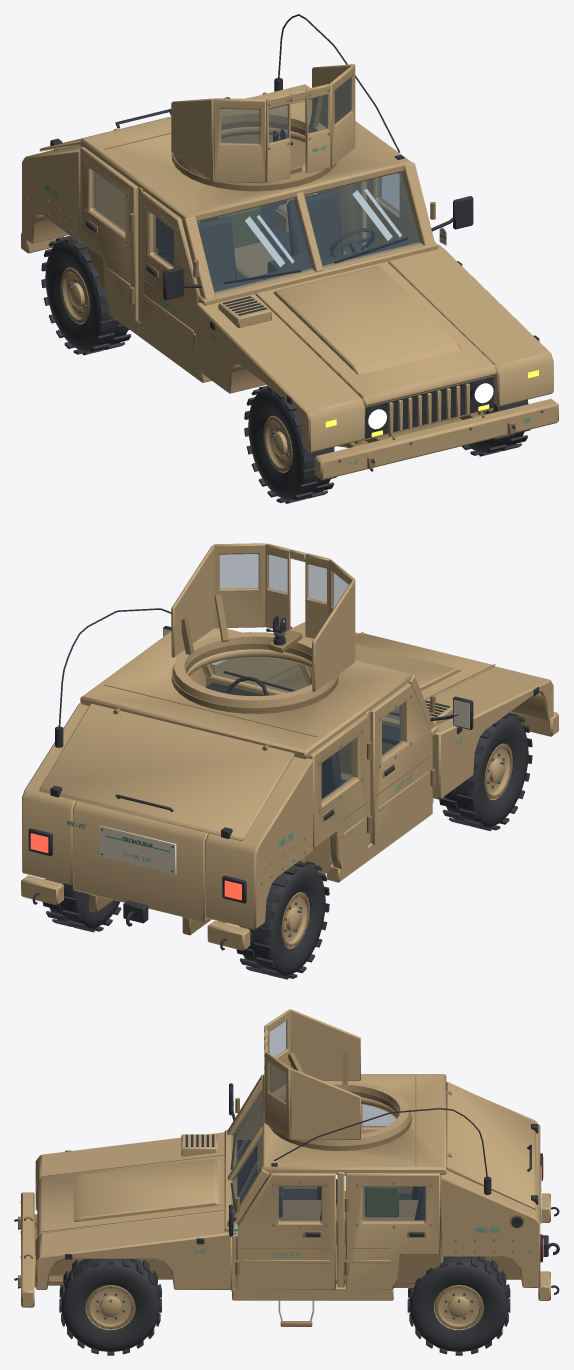
Rendered from humvee.glb.
3 views of the same model, one above another, from view 1: azimuth 30°, elevation 25°; view 2: azimuth 150°, elevation 25°; view 3: azimuth 270°, elevation 25° (orthographic). The views are drawn at different scales.
Visible parts, largest first — view 1: body, turret, door_RR, door_FR, wheel_RR, wheel_FR, body_thin, body_fine, door_FL, wheel_FL, door_RL; view 2: body, hatch_rear, turret, door_FR, door_RR, wheel_RR, wheel_FR, wheel_RL, body_fine, body_thin; view 3: body, turret, door_FL, door_RL, wheel_FL, hatch_rear, wheel_RL, body_thin, body_fine, door_FR, door_RR, wheel_FL_thin (+1 smaller).
Part boxes in pixels (x1=…): body: x1=21, y1=78, x2=558, y2=480; turret: x1=171, y1=64, x2=355, y2=185; door_RR: x1=80, y1=147, x2=138, y2=321; door_FR: x1=140, y1=191, x2=200, y2=365; wheel_RR: x1=41, y1=235, x2=131, y2=355; wheel_FR: x1=244, y1=385, x2=336, y2=503; body_thin: x1=183, y1=14, x2=539, y2=471; body_fine: x1=26, y1=99, x2=543, y2=465; door_FL: x1=366, y1=172, x2=419, y2=248; wheel_FL: x1=462, y1=399, x2=530, y2=456; door_RL: x1=316, y1=183, x2=358, y2=253; body: x1=21, y1=622, x2=558, y2=950; hatch_rear: x1=39, y1=703, x2=294, y2=841; turret: x1=171, y1=543, x2=355, y2=707; door_FR: x1=370, y1=683, x2=431, y2=844; door_RR: x1=307, y1=715, x2=367, y2=869; wheel_RR: x1=236, y1=861, x2=329, y2=979; wheel_FR: x1=439, y1=712, x2=532, y2=830; wheel_RL: x1=42, y1=879, x2=121, y2=932; body_fine: x1=67, y1=629, x2=495, y2=885; body_thin: x1=32, y1=608, x2=539, y2=950; body: x1=21, y1=1074, x2=550, y2=1307; turret: x1=264, y1=1009, x2=410, y2=1145; door_FL: x1=236, y1=1173, x2=335, y2=1289; door_RL: x1=345, y1=1173, x2=439, y2=1289; wheel_FL: x1=59, y1=1259, x2=161, y2=1355; hatch_rear: x1=446, y1=1082, x2=536, y2=1209; wheel_RL: x1=407, y1=1256, x2=510, y2=1355; body_thin: x1=14, y1=1102, x2=559, y2=1326; body_fine: x1=20, y1=1076, x2=541, y2=1287; door_FR: x1=237, y1=1093, x2=316, y2=1189; door_RR: x1=361, y1=1104, x2=395, y2=1190; wheel_FL_thin: x1=86, y1=1285, x2=135, y2=1329.
Bounding box in the file's own units: 2.9 × 2.82 × 5.17.
